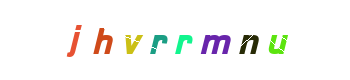H: (92, 0, 172, 80)
J: (52, 0, 132, 80)
M: (177, 0, 257, 80)
N: (209, 0, 289, 80)
R: (133, 0, 213, 80), (134, 0, 214, 80)
U: (237, 0, 317, 80)
V: (130, 0, 210, 80)
